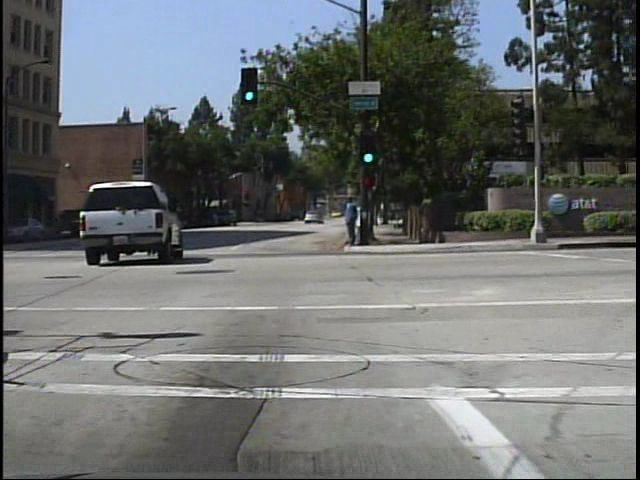person: (341, 193, 361, 249), (349, 195, 367, 246)
